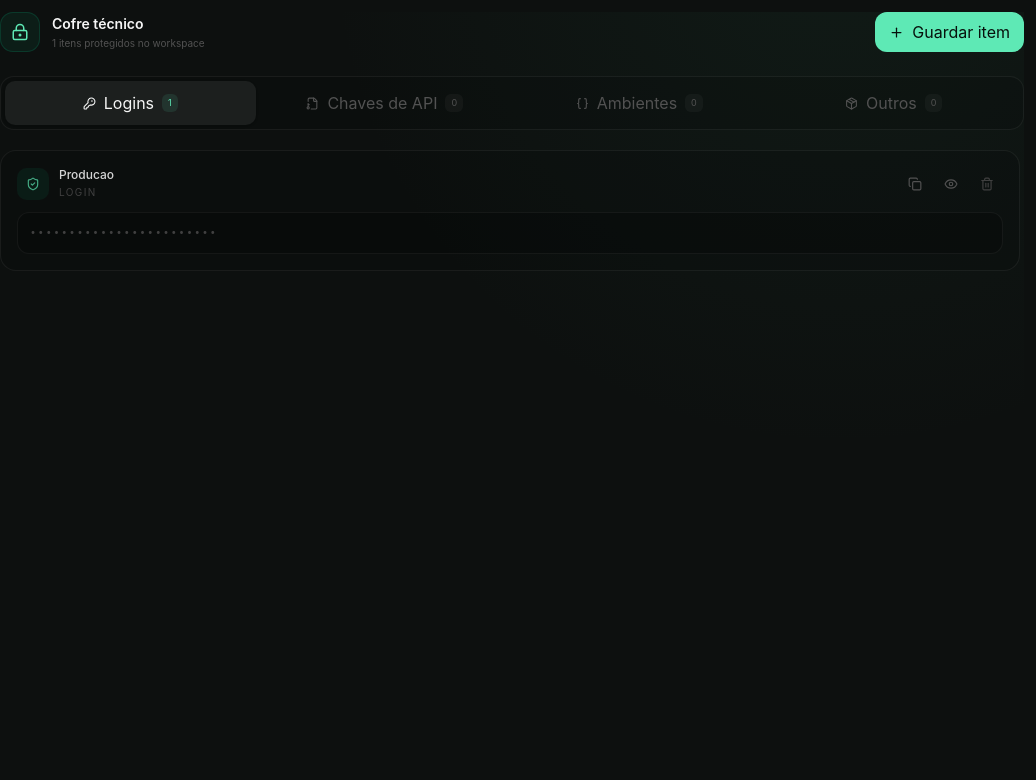
Test: Vault › mantem o formulario e avisa quando salvar falha
Step 1. Click the button "Guardar item" → x=950, y=32, box top-left (875, 12), bottom-right (1024, 52)
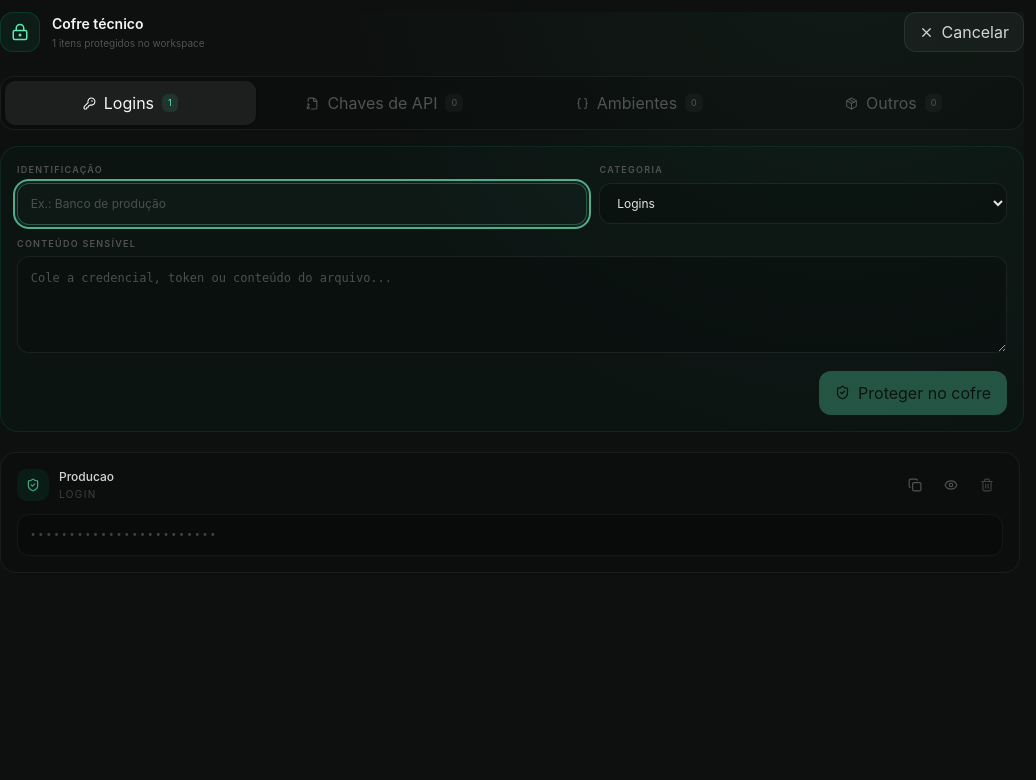
Step 2. Type "Falha" into the field with placeholder "Ex.: Banco de produção" → x=302, y=204, box top-left (17, 182), bottom-right (588, 225)
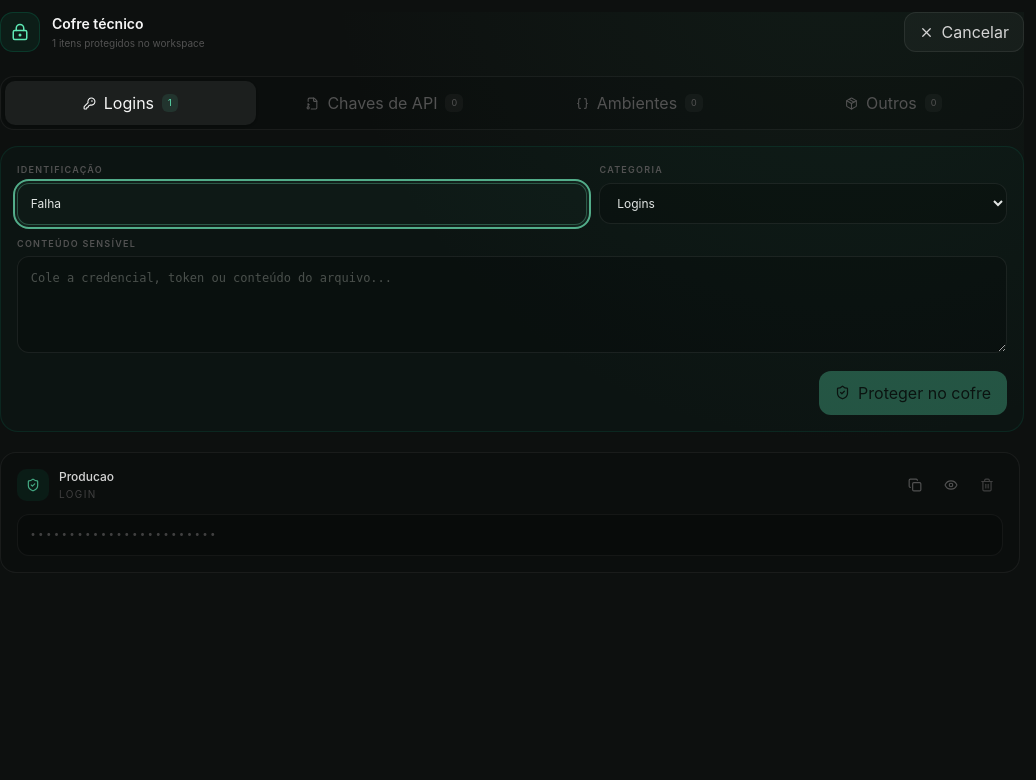
Step 3. Type "segredo" into the text box with placeholder "Cole a credencial, token ou conteúdo do arquivo..." → x=512, y=305, box top-left (17, 256), bottom-right (1007, 353)
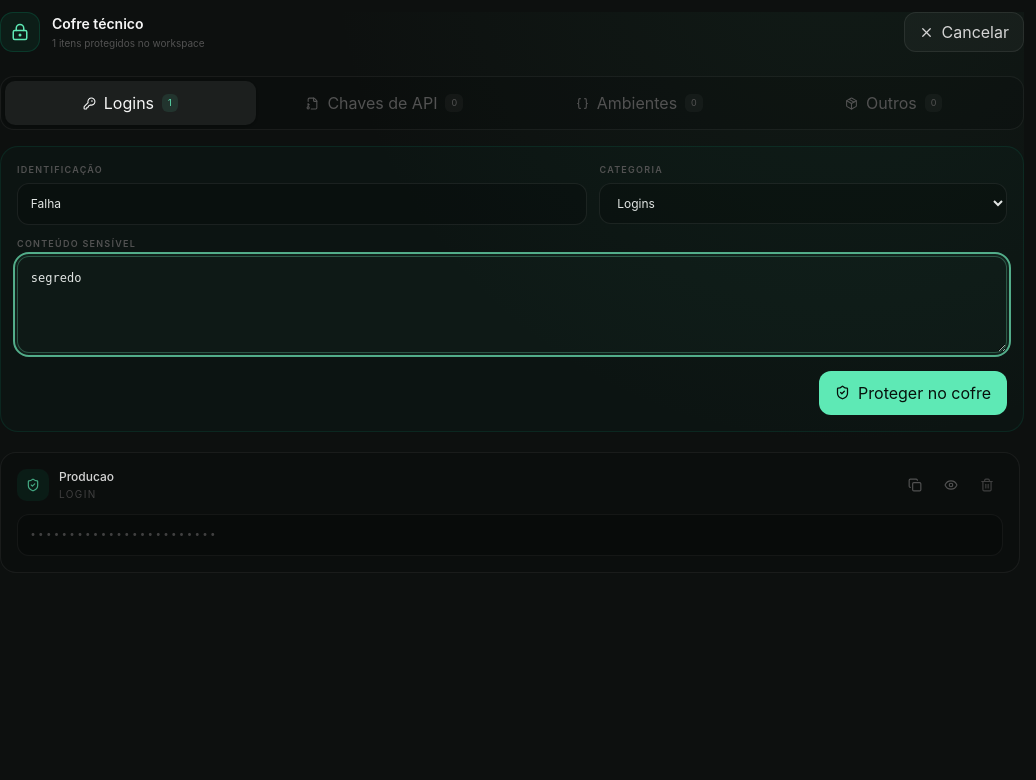
Step 4. Click the button "Proteger no cofre" → x=913, y=393, box top-left (819, 371), bottom-right (1007, 415)
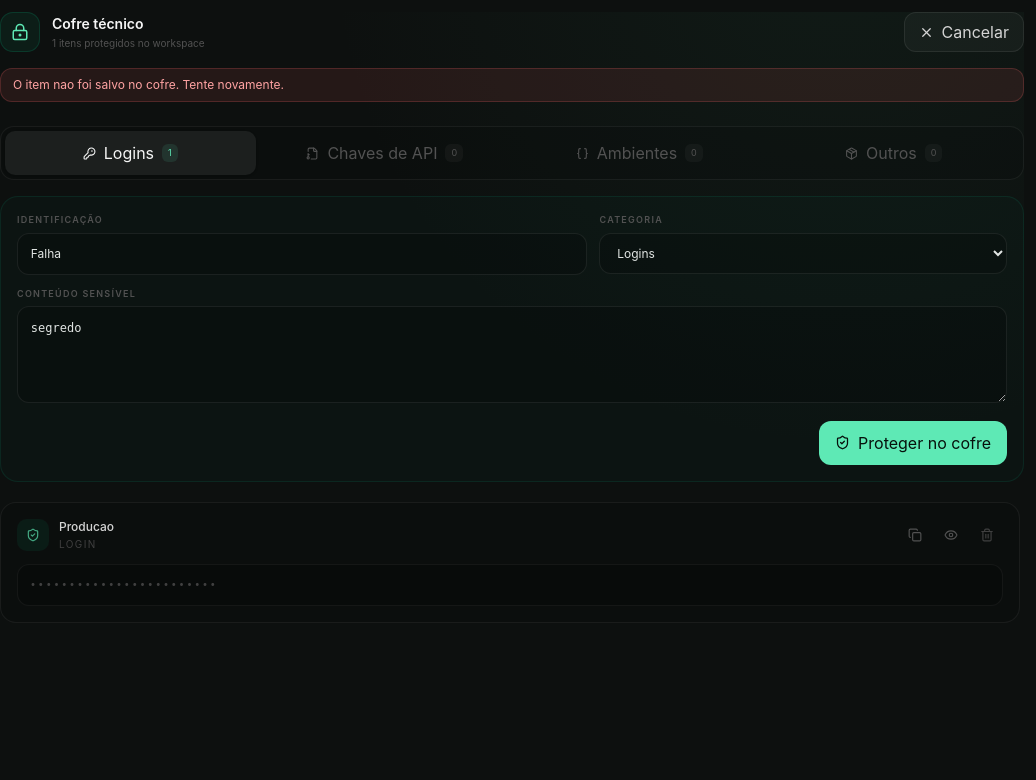
expect the message shows "nao foi salvo": met, box top-left (13, 77), bottom-right (284, 92)
